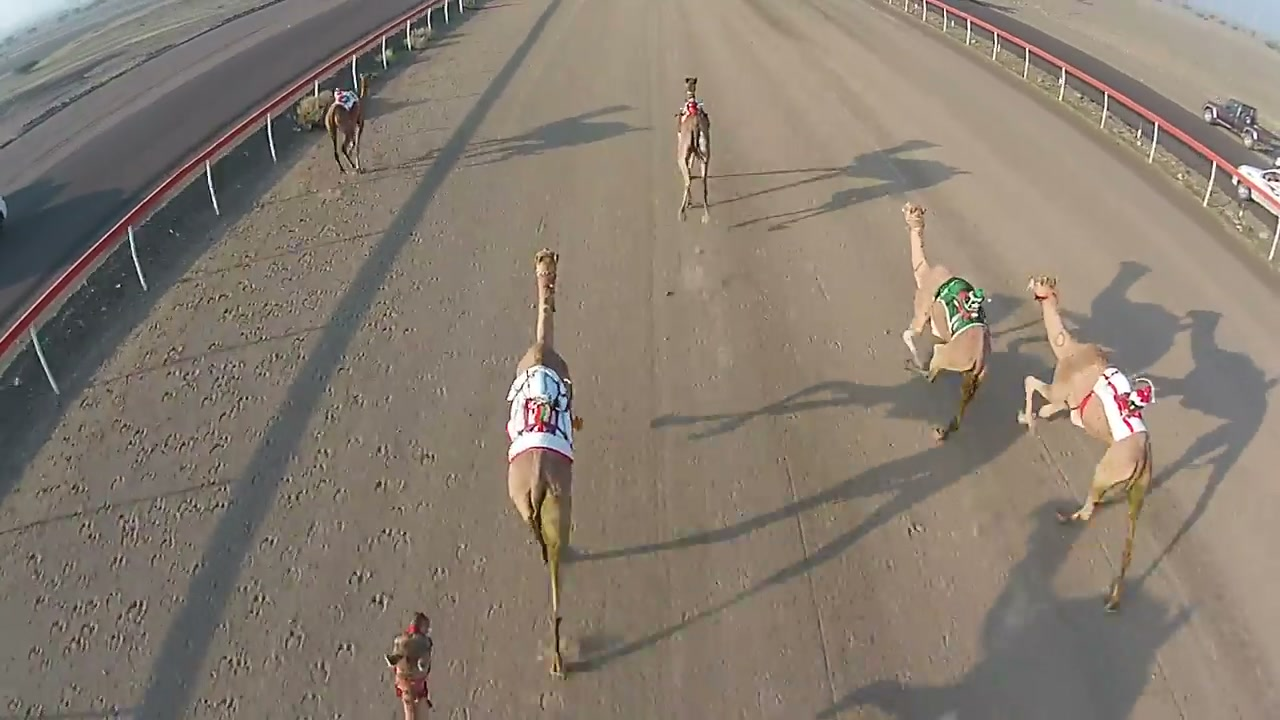animal_footprint: (55, 213, 513, 711)
